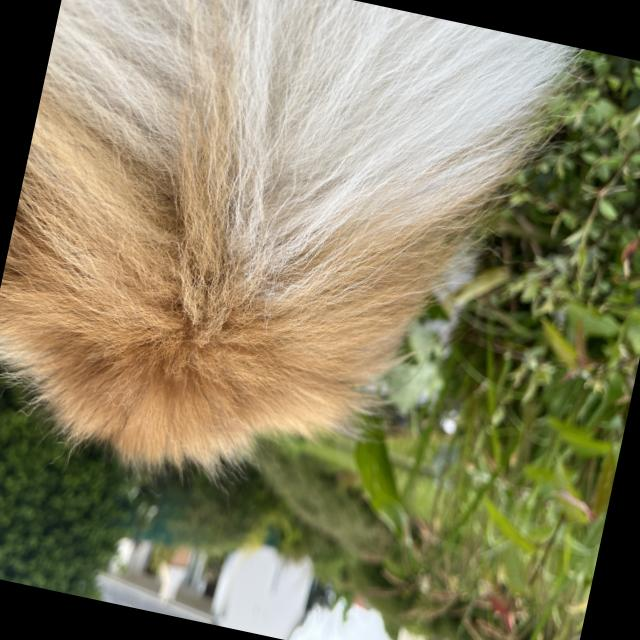Dog: (0, 0, 598, 555)
